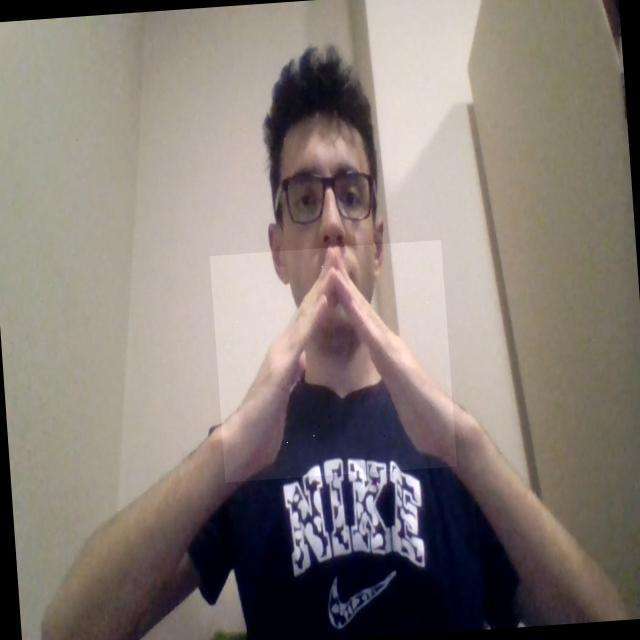house: (210, 239, 457, 482)
